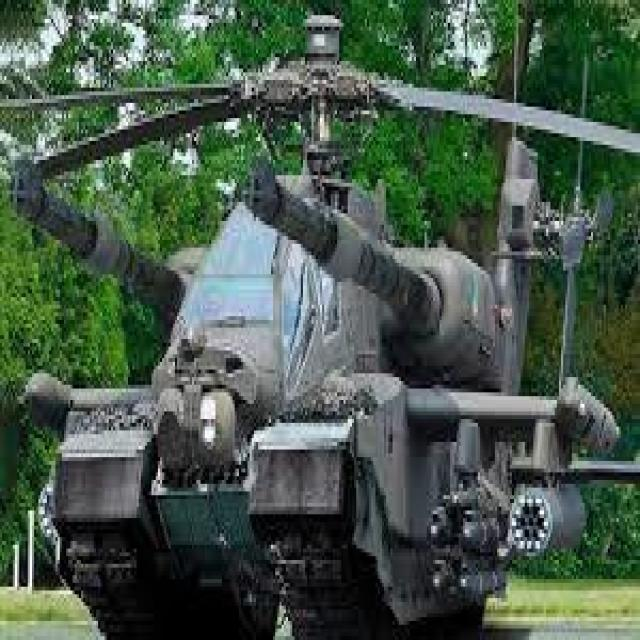Tanks: (3, 8, 630, 624)
